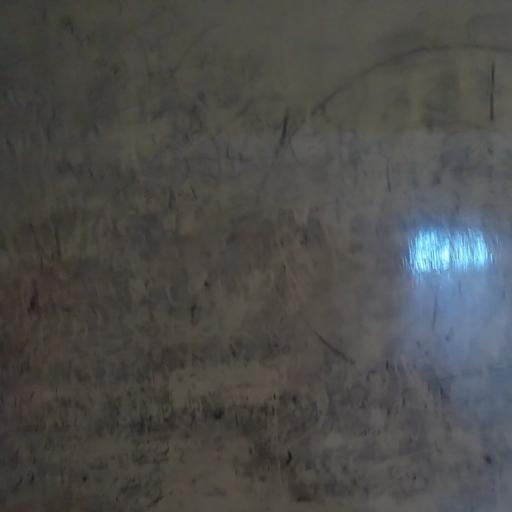stain: (239, 19, 512, 439)
